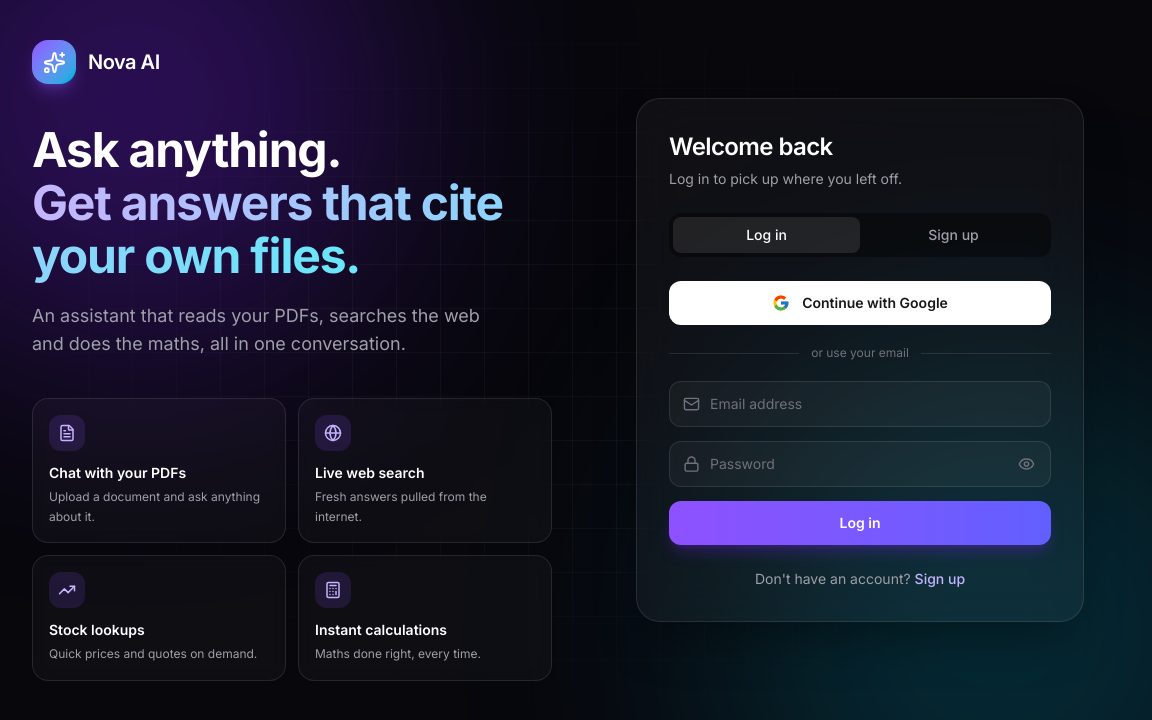
Test: AuthPage › shows the server error and does not log in on a wrong password
This screenshot has width=1152, height=720.
Type "alice@x.com" into the field labelled "Email address" at (860, 404), box [669,381,1051,427]
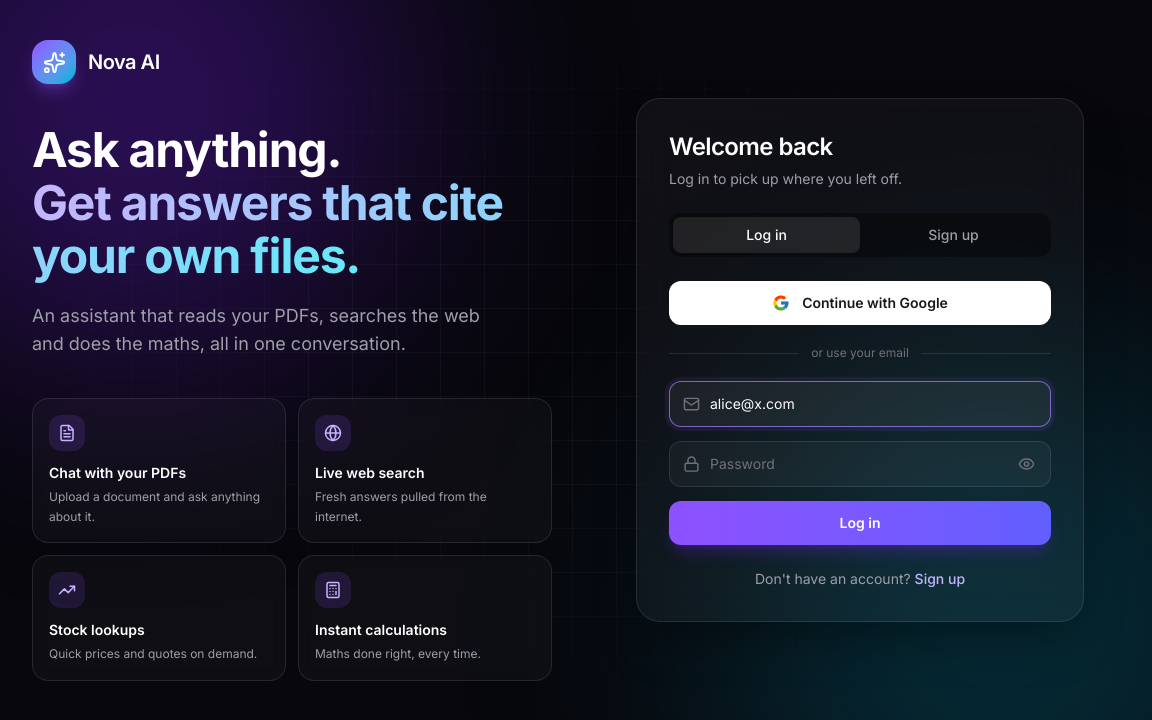
Type "nope-nope-nope" into the password field labelled "Password" at (860, 464), box [669,441,1051,487]
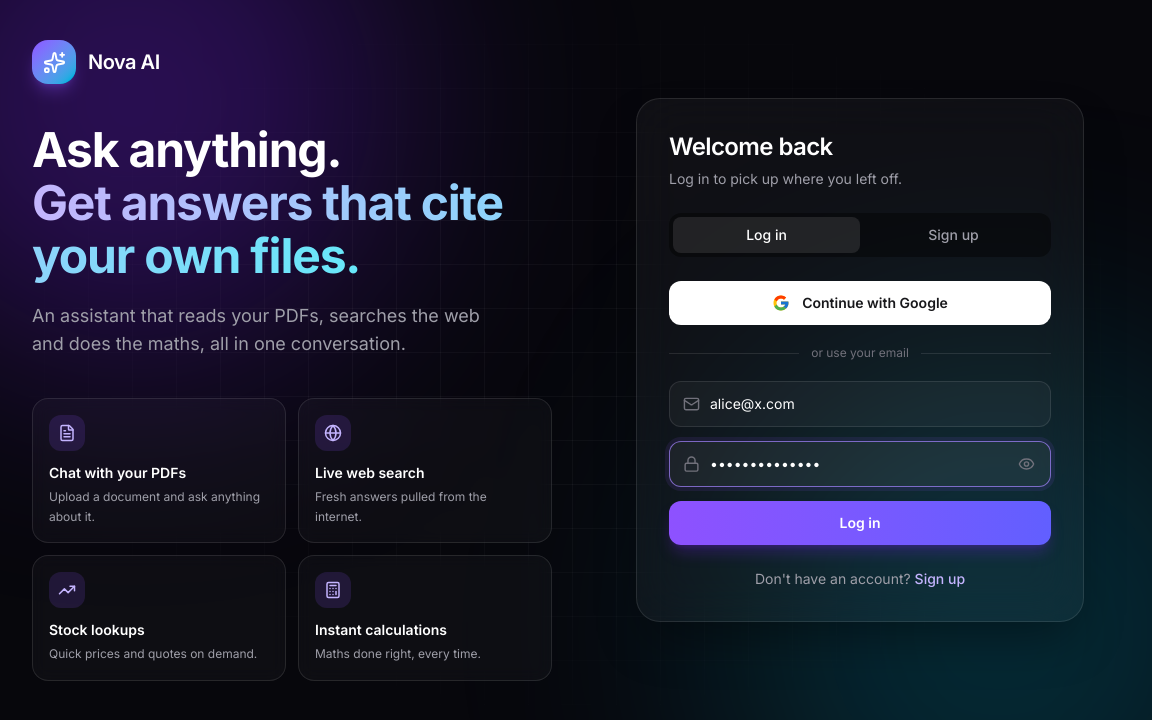
Press Enter
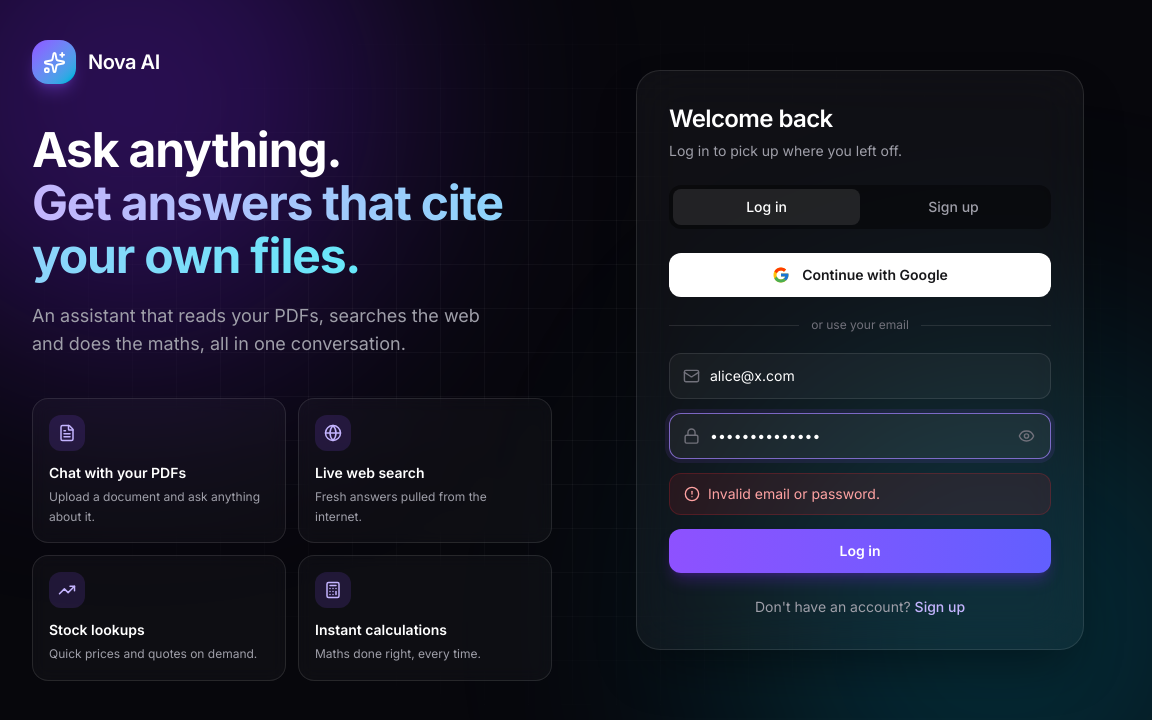
Now the message reads "Invalid email or password.", box [708,485,880,502]
